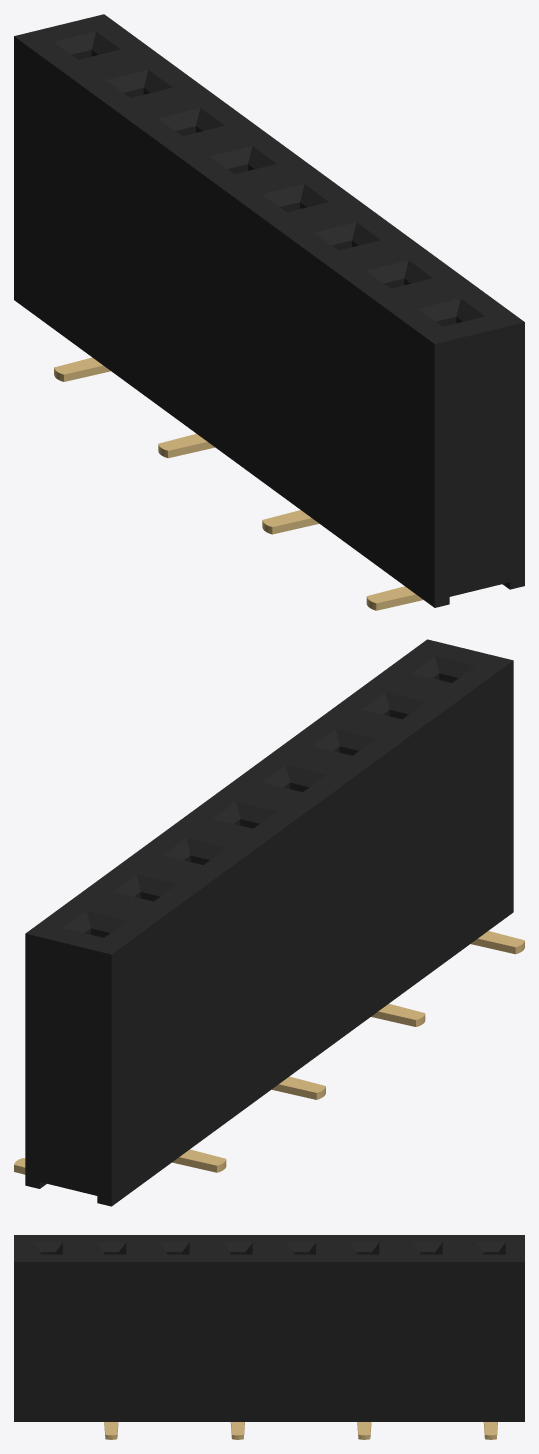
File: sfe-pinsocket_1x08_p2.54mm_vertical_smd_pin1right.glb
The picture shows the model from 3 angles, top to bottom: view 1: azimuth 30°, elevation 25°; view 2: azimuth 150°, elevation 25°; view 3: azimuth 270°, elevation 25°; orthographic projection. The views are drawn at different scales.
Parts seen in each view (by area): view 1: 0_0_0_0, 0.75_0.5_0.25_0.9; view 2: 0_0_0_0, 0.75_0.5_0.25_0.9; view 3: 0_0_0_0, 0.75_0.5_0.25_0.9.
Part boxes in pixels (x1=…): 0_0_0_0: x1=14, y1=14, x2=524, y2=607; 0.75_0.5_0.25_0.9: x1=54, y1=357, x2=423, y2=610; 0_0_0_0: x1=25, y1=639, x2=513, y2=1206; 0.75_0.5_0.25_0.9: x1=14, y1=931, x2=524, y2=1174; 0_0_0_0: x1=14, y1=1235, x2=524, y2=1421; 0.75_0.5_0.25_0.9: x1=104, y1=1422, x2=497, y2=1439.
Size of the model in its own units: 0.4634 by 0.7399 by 2.05.
